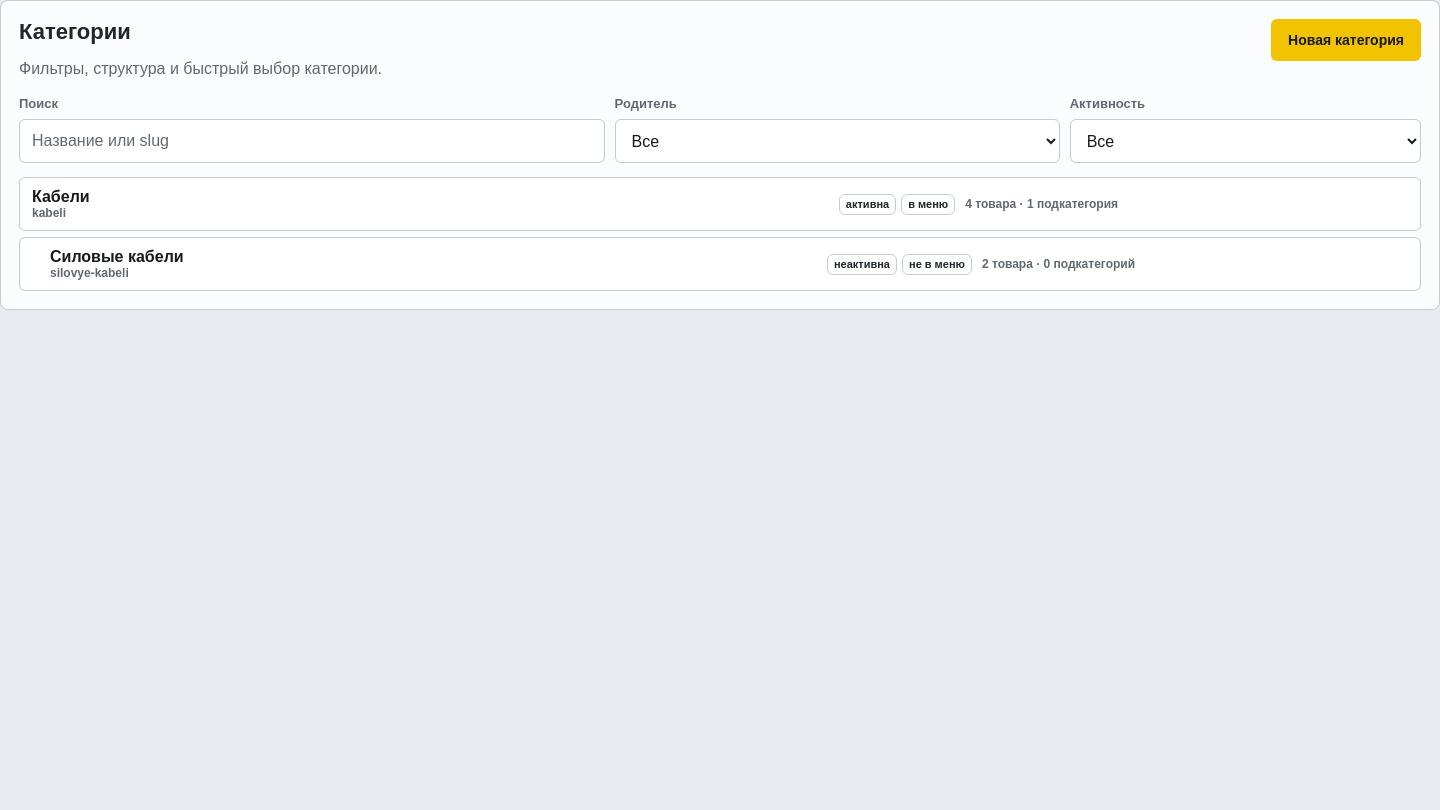
Test case: AdminCategoryManager › оставляет диалог категории открытым после сохранения и блокирует закрытие во время мутации
Click the list item "Силовые кабели": (117, 257) x1=19 y1=237 x2=1421 y2=291
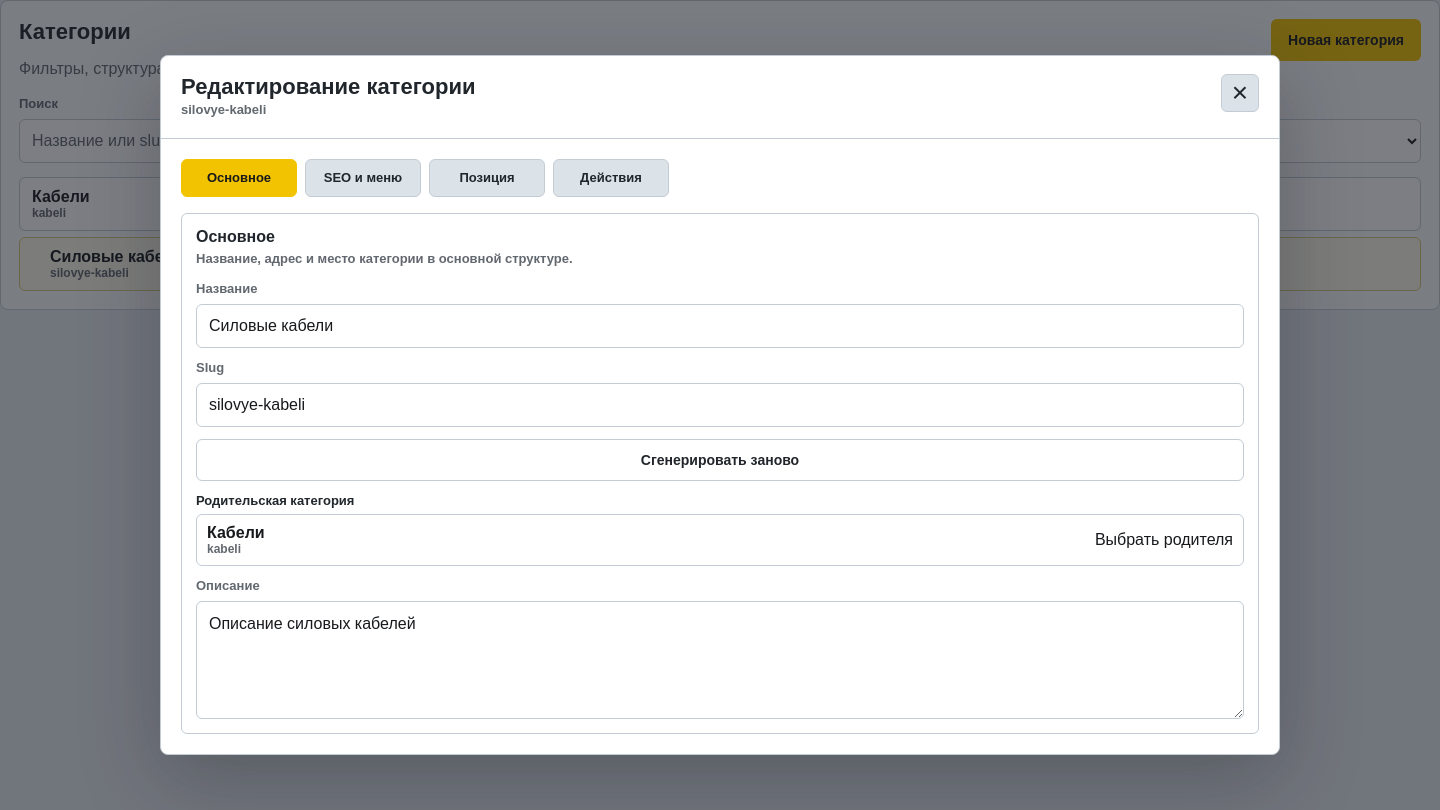
Click the tab "Действия": (611, 178) x1=553 y1=159 x2=669 y2=197
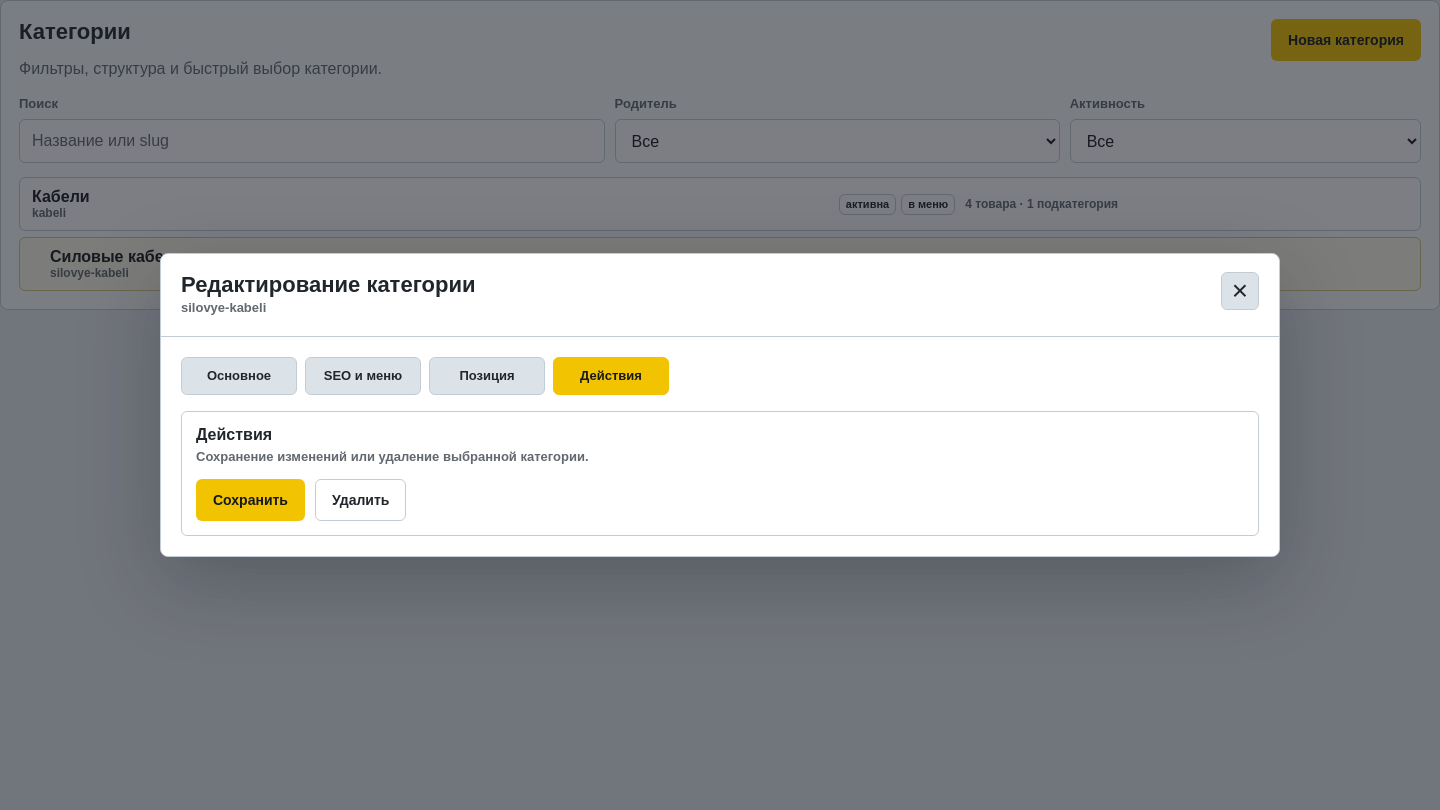
Click the button "Сохранить": (250, 500) x1=196 y1=478 x2=305 y2=520
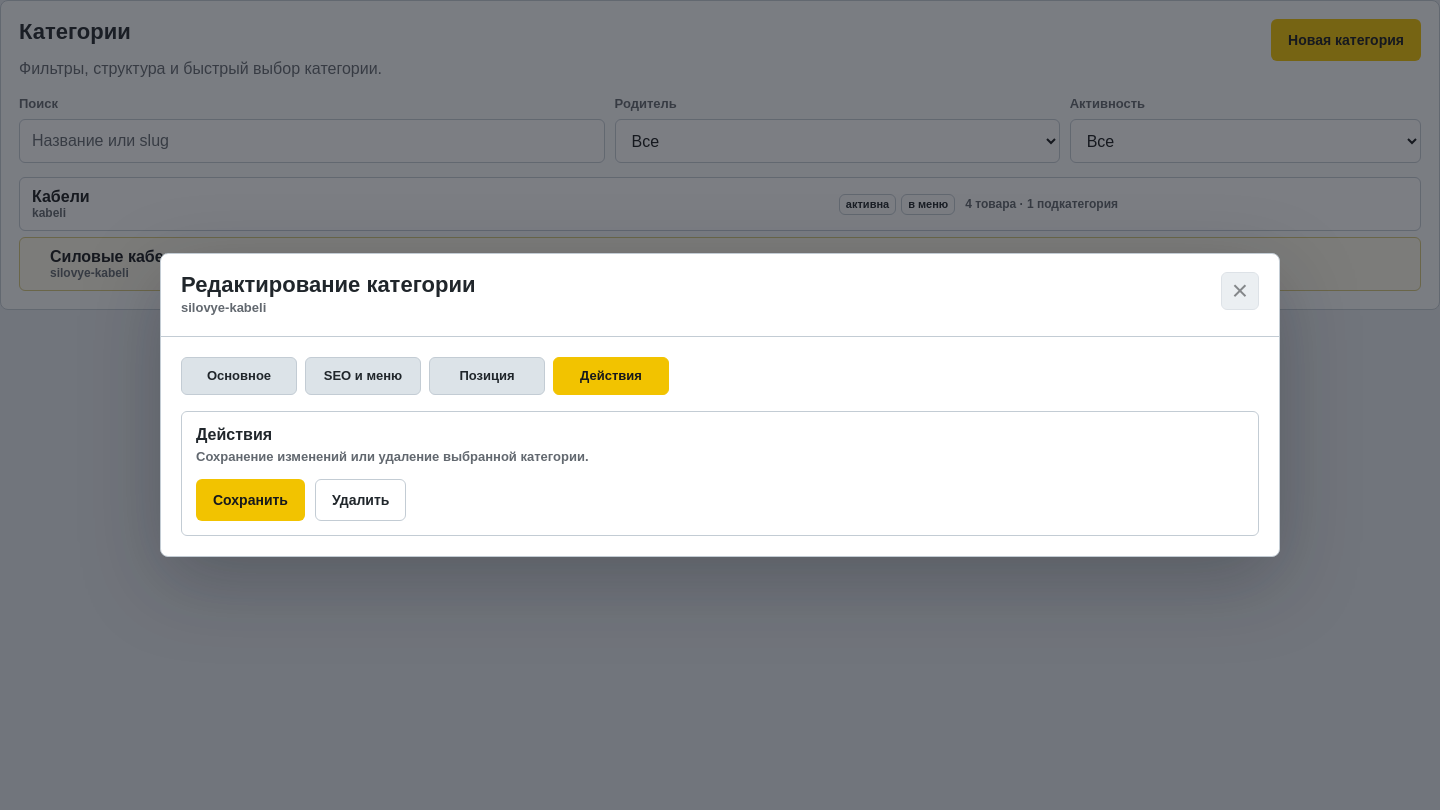
Expected: the button named "Закрыть редактор категории" is disabled, x1=1221 y1=272 x2=1259 y2=310
Press Escape
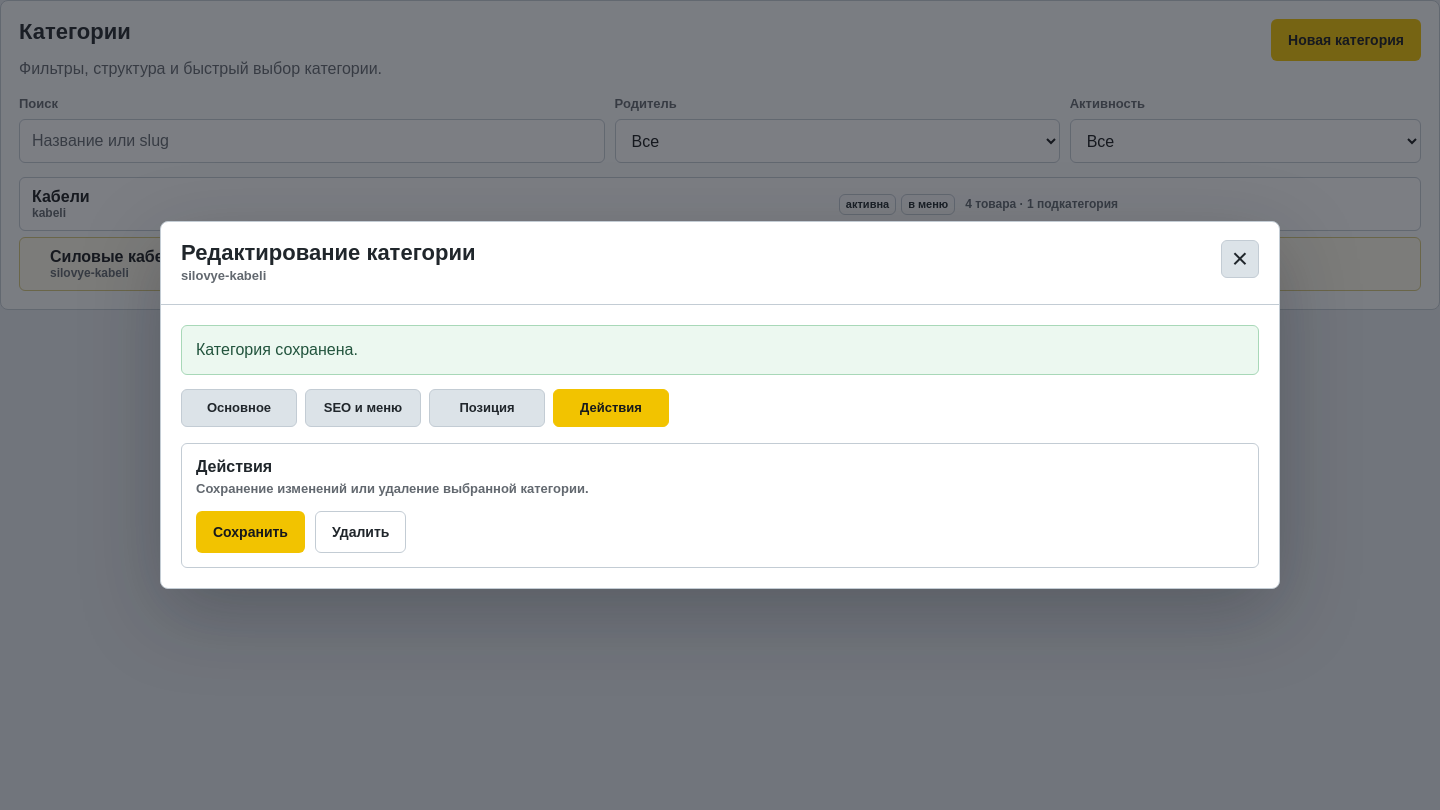
Expected: the dialog "Редактирование категории" is shown, x1=160 y1=222 x2=1280 y2=589
Expected: the text "Категория сохранена." is shown, x1=181 y1=325 x2=1259 y2=375
